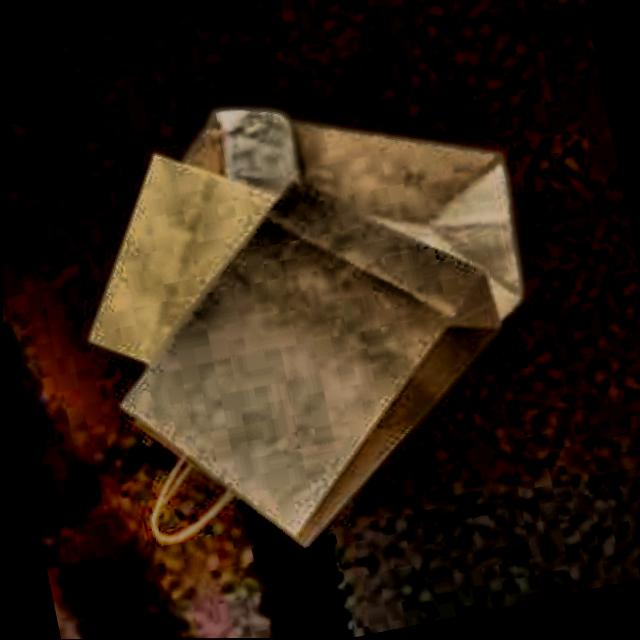Paper-bag: (80, 158, 544, 596), (76, 55, 545, 419), (40, 115, 442, 447)
